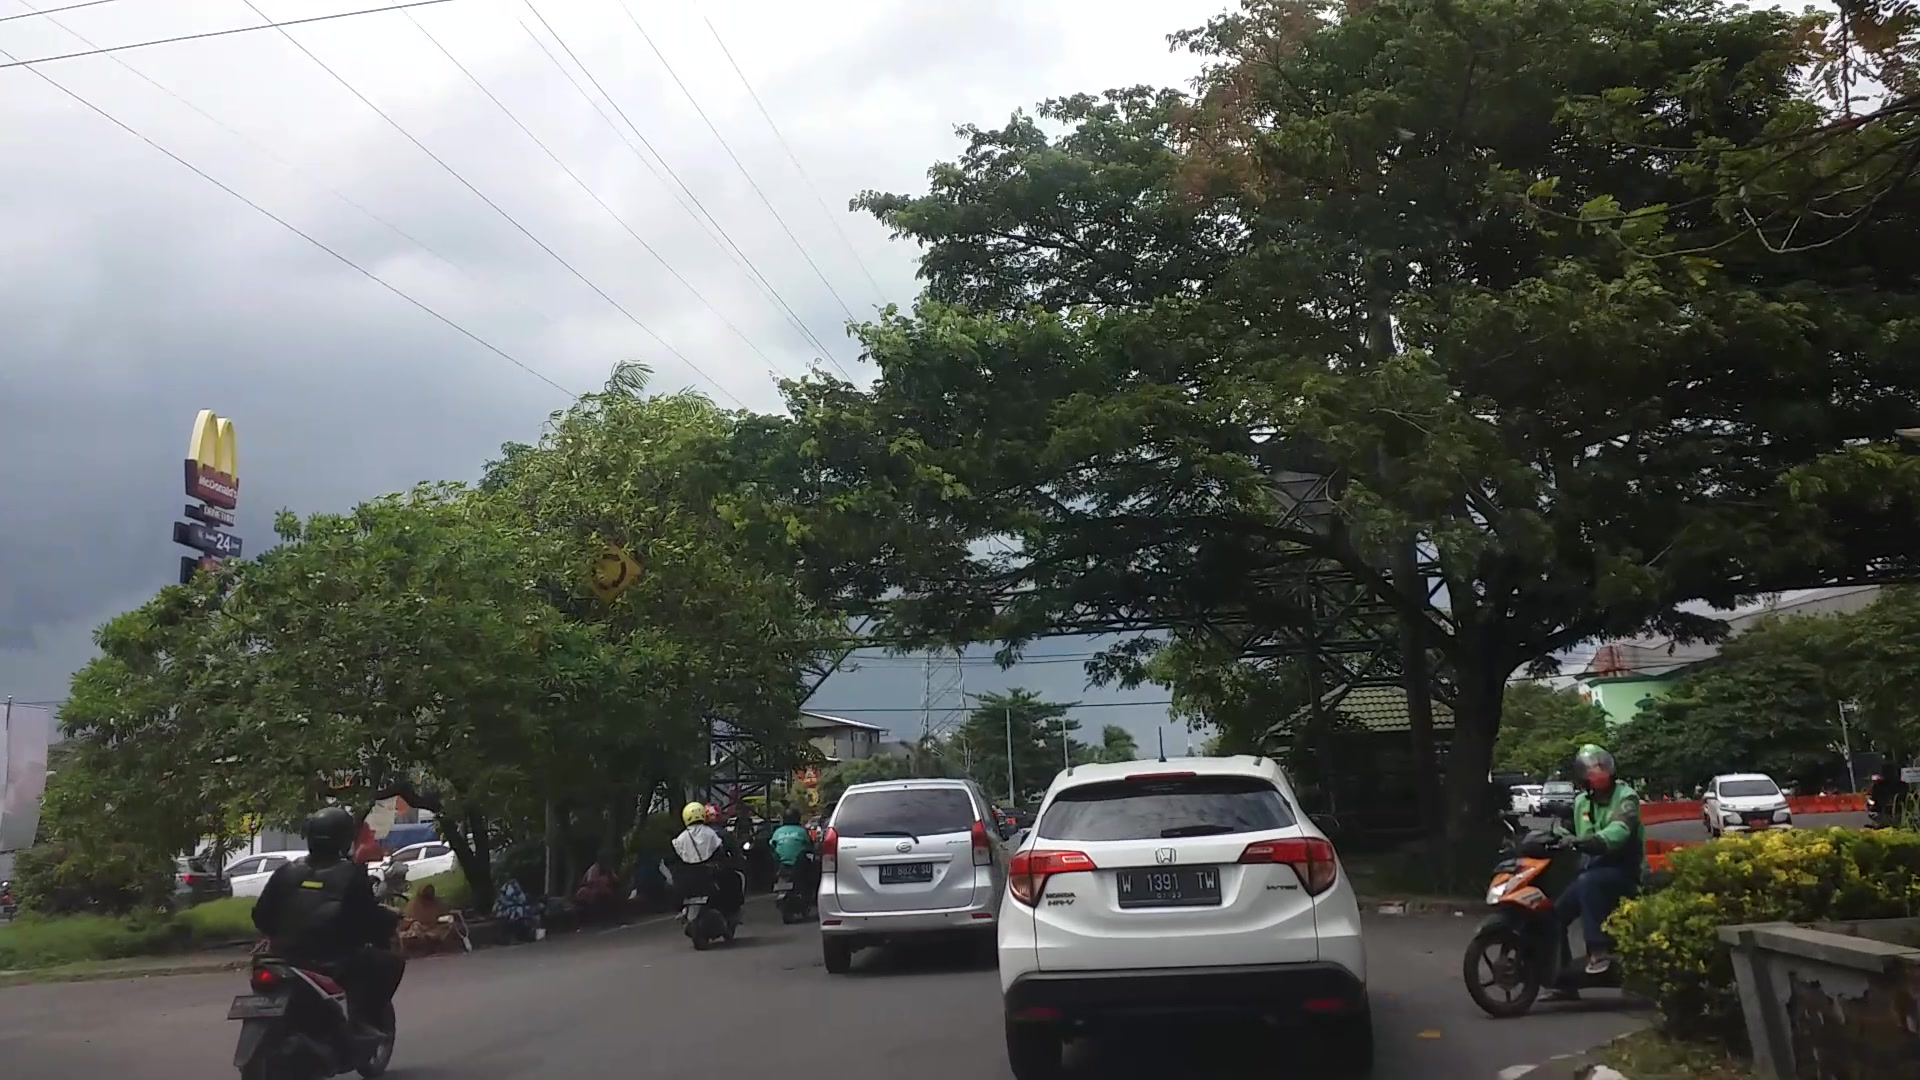plate_positive: (1116, 868, 1221, 905)
